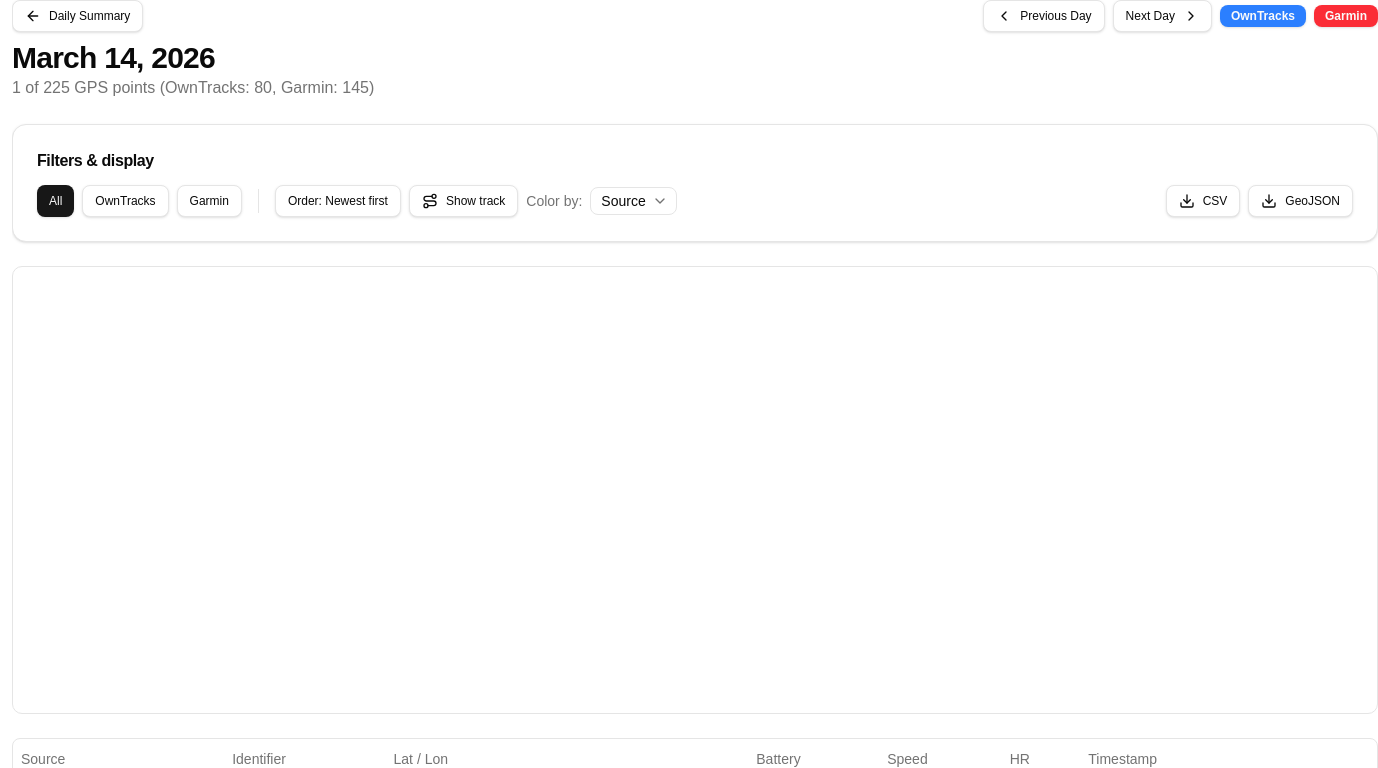
DailySummaryDetailPage › filters points by source and resets pagination
Click the button "OwnTracks".
click(125, 201)  # box [82, 185, 168, 217]
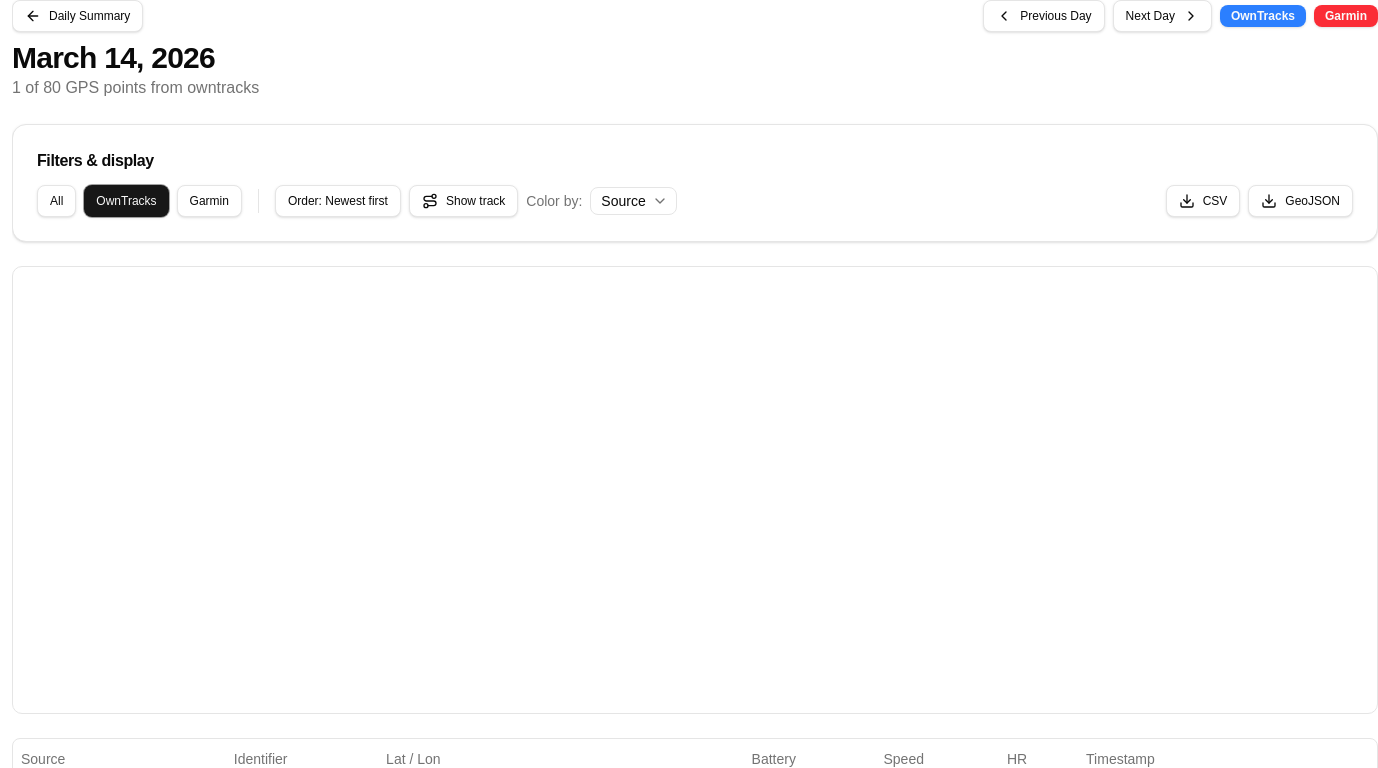
Expected: the text "1 of 80 GPS points from owntracks" is shown, [12, 76, 259, 100]
